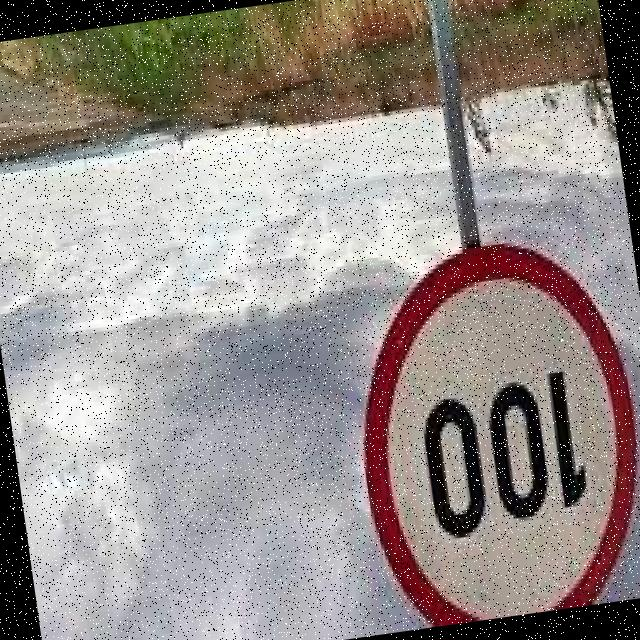speed_limit_100: (337, 232, 640, 633)
